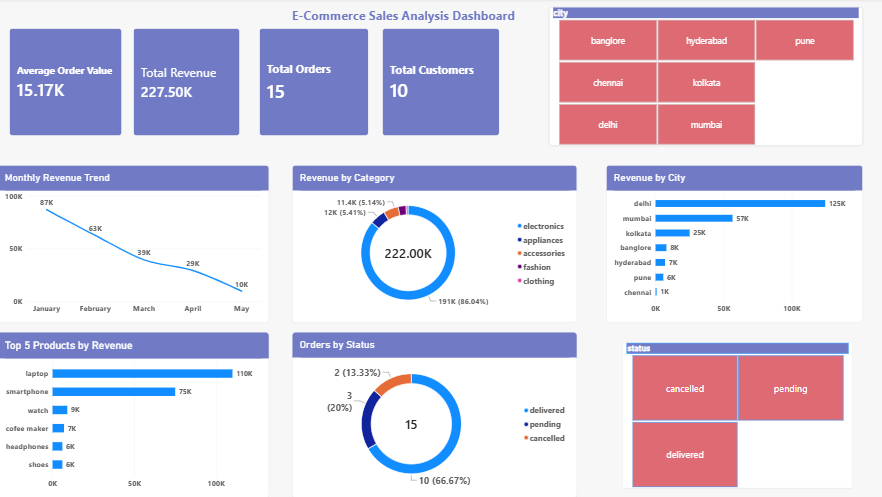

Layout of this report page (visuals, bound fields, positions):
{"tool":"powerbi","page":{"name":"Page 1","canvas":[1920,1080],"ordinal":0},"visuals":[{"type":"cardVisual","fields":{"Data":["Sum(orders.amount)"]},"box":[293.8,64.8,231.1,233.3],"z":0},{"type":"cardVisual","fields":{"Data":["CountNonNull(orders.order_id)"]},"box":[565.9,64.8,237.6,233.3],"z":1},{"type":"cardVisual","fields":{"Data":["CountNonNull(customers.customer_id)"]},"box":[831.6,64.8,254.9,233.3],"z":2},{"type":"cardVisual","fields":{"Data":["Avg(orders.amount)"]},"box":[25.9,64.8,244.1,233.3],"z":3},{"type":"lineChart","title":"Monthly Revenue Trend","fields":{"Category":["orders.order_date.Variation.Date Hierarchy.Month"],"Y":["Sum(orders.amount)"]},"box":[0,360.7,587.5,341.3],"z":4},{"type":"clusteredBarChart","title":"Revenue by City","fields":{"Category":["customers.city"],"Y":["Sum(orders.amount)"]},"box":[1315.4,360.7,555.1,341.3],"z":5},{"type":"donutChart","title":"Revenue by Category","fields":{"Category":["products.category"],"Y":["order_details.Category Revenue"]},"box":[637.2,360.7,615.6,341.3],"z":6},{"type":"donutChart","title":"Orders by Status","fields":{"Category":["orders.status"],"Y":["CountNonNull(orders.order_id)"]},"box":[637.2,721.4,615.6,358.6],"z":7},{"type":"clusteredBarChart","title":"Top 5 Products by Revenue","fields":{"Category":["products.product_name"],"Y":["order_details.Category Revenue"]},"box":[0,721.4,587.5,358.6],"z":8},{"type":"slicer","fields":{"Values":["customers.city"]},"box":[1192.3,19.4,678.2,300.2],"z":9},{"type":"slicer","fields":{"Values":["orders.status"]},"box":[1352.2,745.2,494.6,313.2],"z":10},{"type":"textbox","box":[637.2,19.4,499,45.4],"z":11}]}

Visuals, with their boxes in screenshot pixels (x1, y1, x2, y2), scaled from the page's 1920x1080 canvas onto the 882x497 screenshot:
cardVisual - Sum(orders.amount): 135,30,241,137
cardVisual - CountNonNull(orders.order_id): 260,30,369,137
cardVisual - CountNonNull(customers.customer_id): 382,30,499,137
cardVisual - Avg(orders.amount): 12,30,124,137
"Monthly Revenue Trend" lineChart: 0,166,270,323
"Revenue by City" clusteredBarChart: 604,166,859,323
"Revenue by Category" donutChart: 293,166,576,323
"Orders by Status" donutChart: 293,332,576,496
"Top 5 Products by Revenue" clusteredBarChart: 0,332,270,496
slicer - customers.city: 548,9,859,147
slicer - orders.status: 621,343,848,487
textbox: 293,9,522,30
